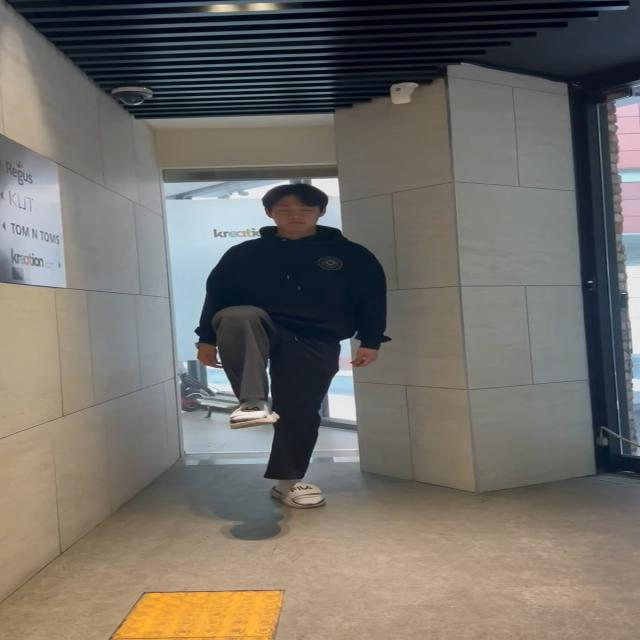knee: (208, 301, 284, 430)
